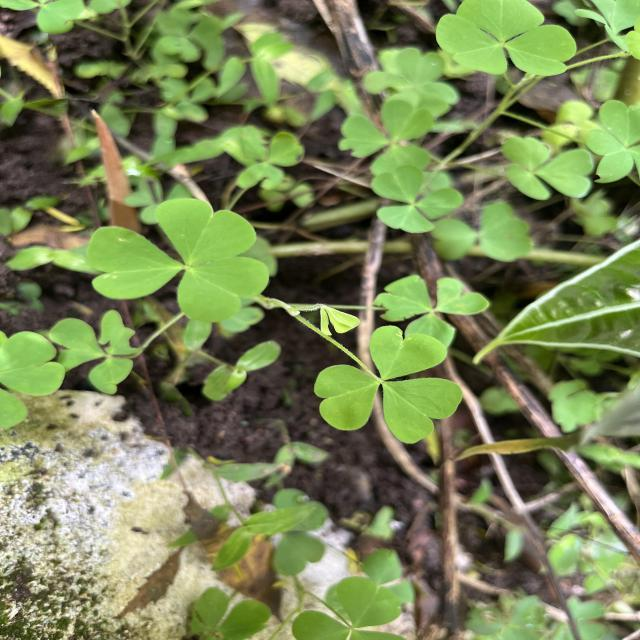Oxalis corniculata: (85, 196, 274, 325), (312, 324, 466, 446), (434, 0, 580, 77), (368, 163, 464, 236), (500, 135, 596, 201)
